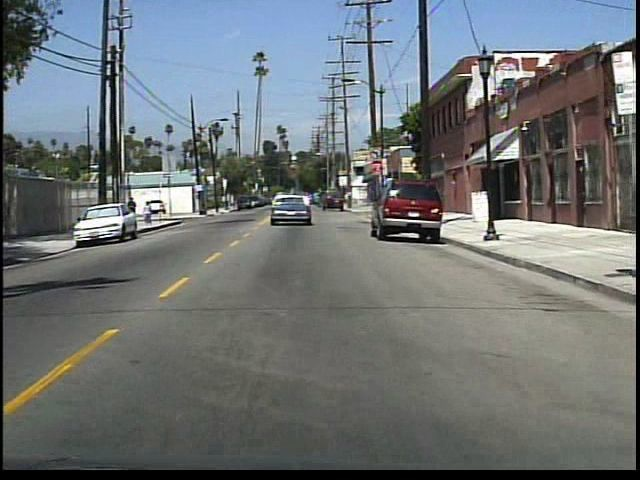person: (125, 195, 142, 228), (141, 199, 155, 228)
